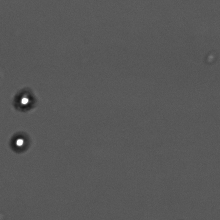Living Cell: (11, 87, 40, 112), (8, 131, 32, 153)
